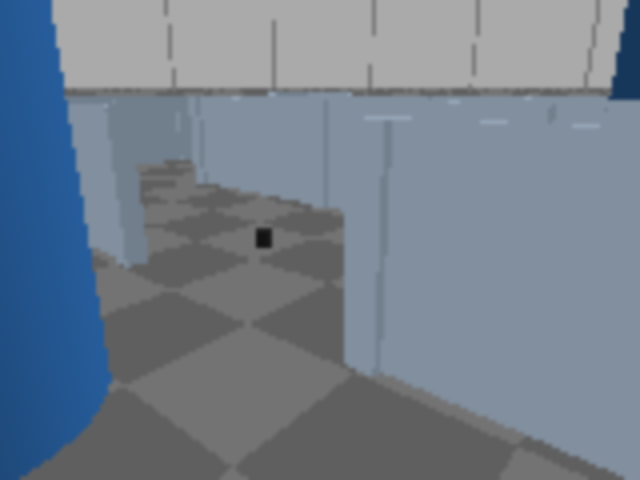person: (594, 0, 638, 197)
puck: (256, 229, 271, 249)
